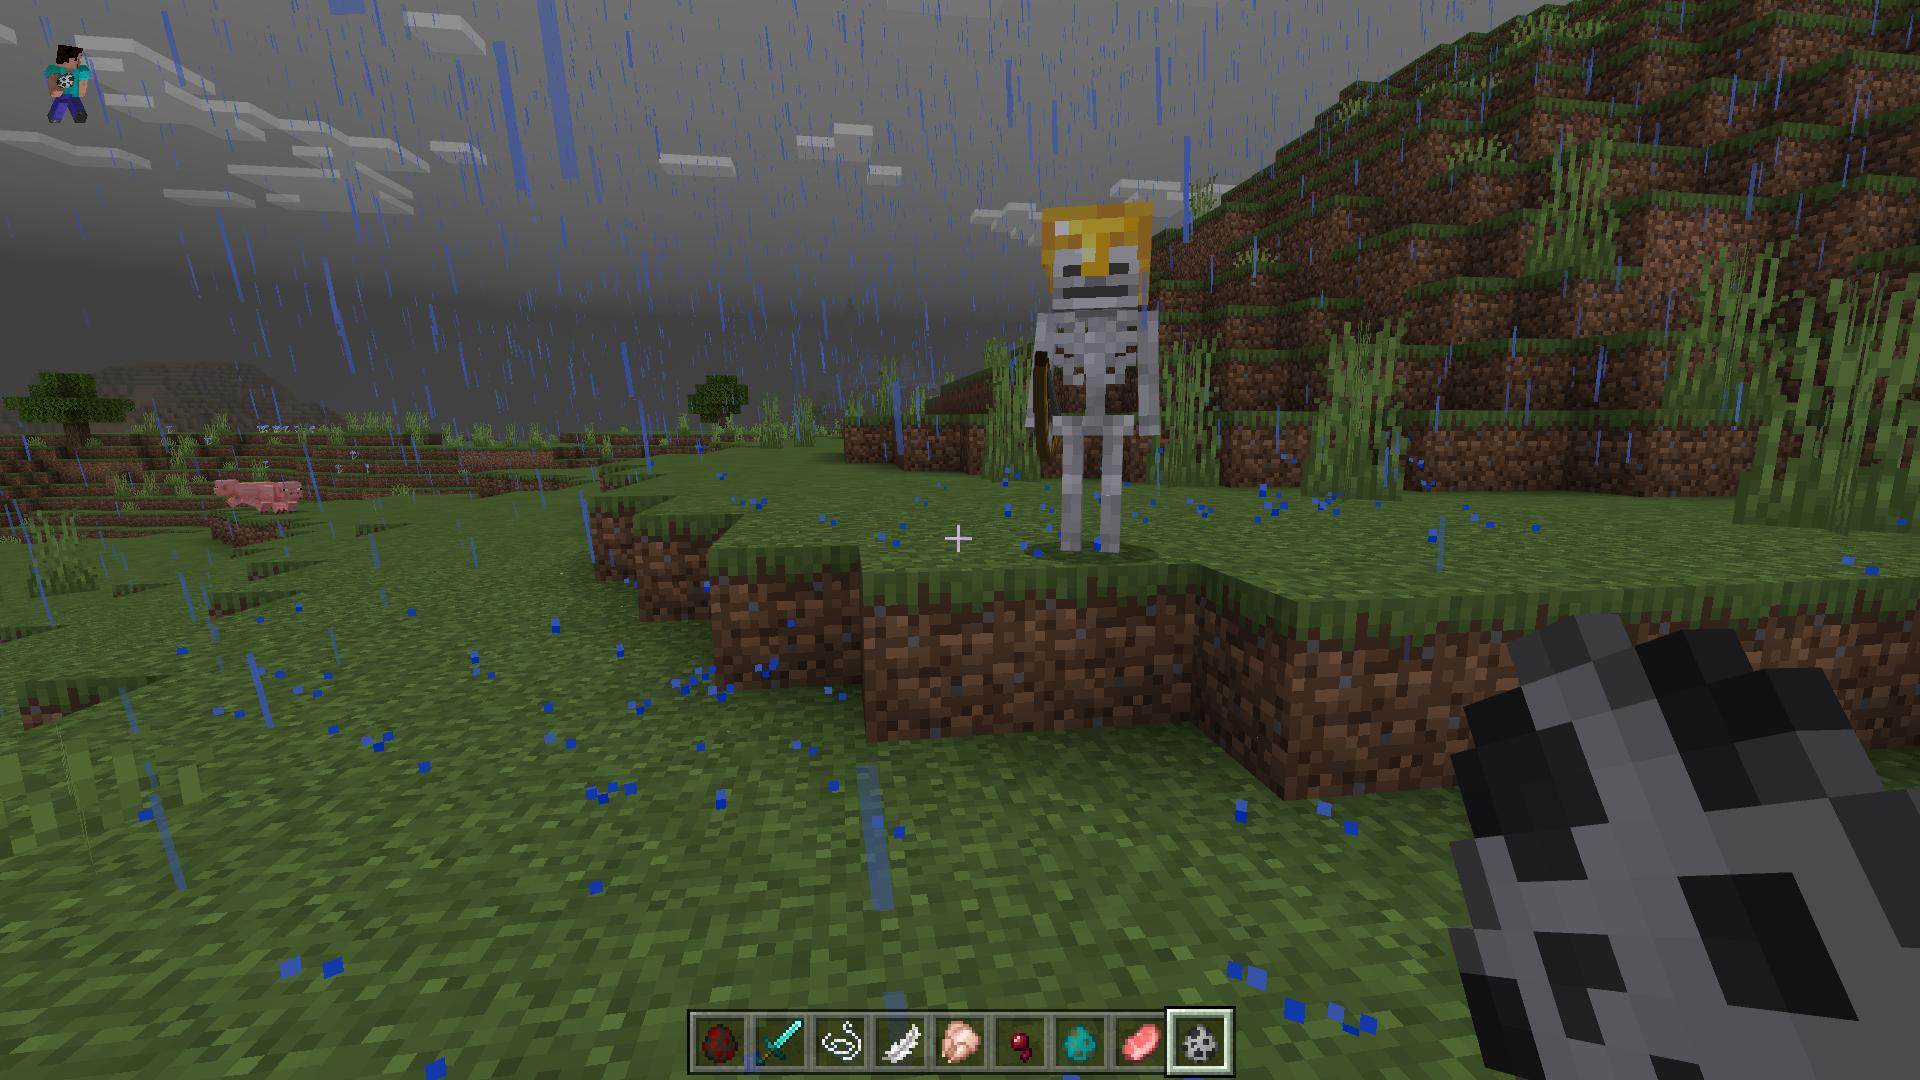pig: (215, 476, 309, 513)
skeleton: (1030, 200, 1170, 562)
